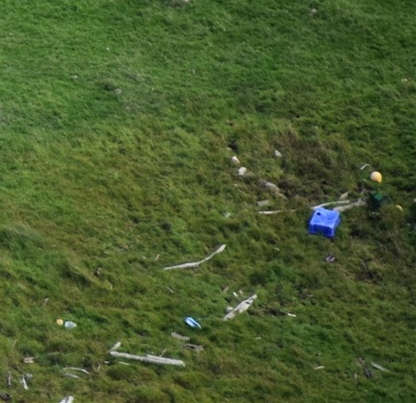scattered_barrel: (46, 298, 211, 377)
straight_bar: (218, 286, 261, 332)
white_in_green: (290, 187, 358, 252), (355, 153, 400, 199)
